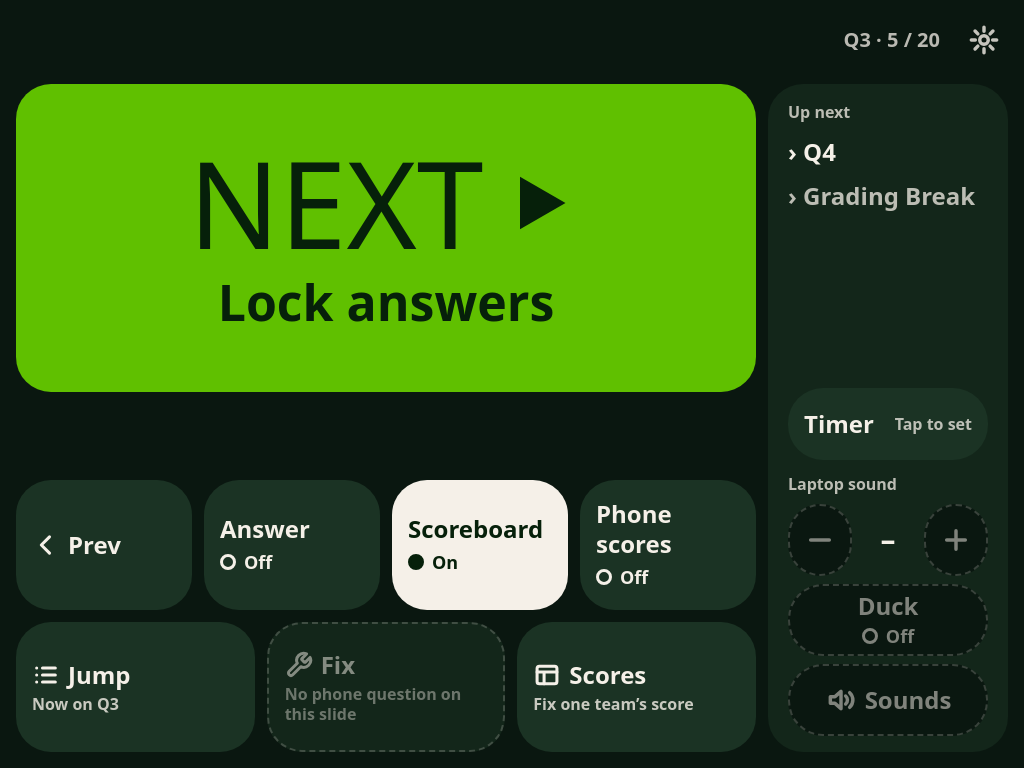
/remote Scores drawer (dispute fixes) › level 1: teams by place with total and place
Click the button "Scores Fix one team’s score" at (637, 687), box [517,622,756,752]
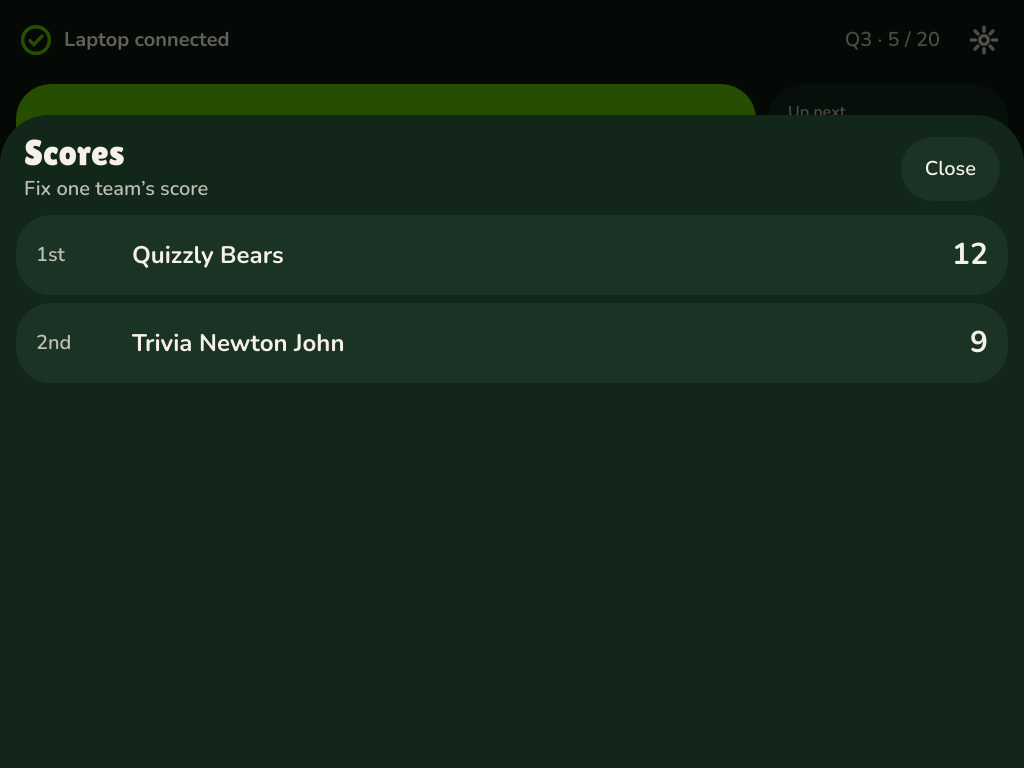
Result: the button "1st Quizzly Bears 12" is shown at [16,215,1008,295]
